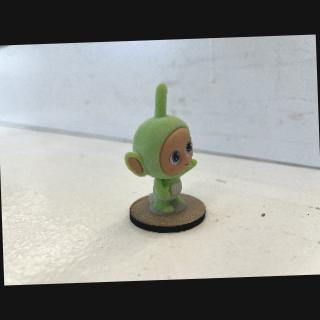teletubby: (125, 83, 197, 214)
